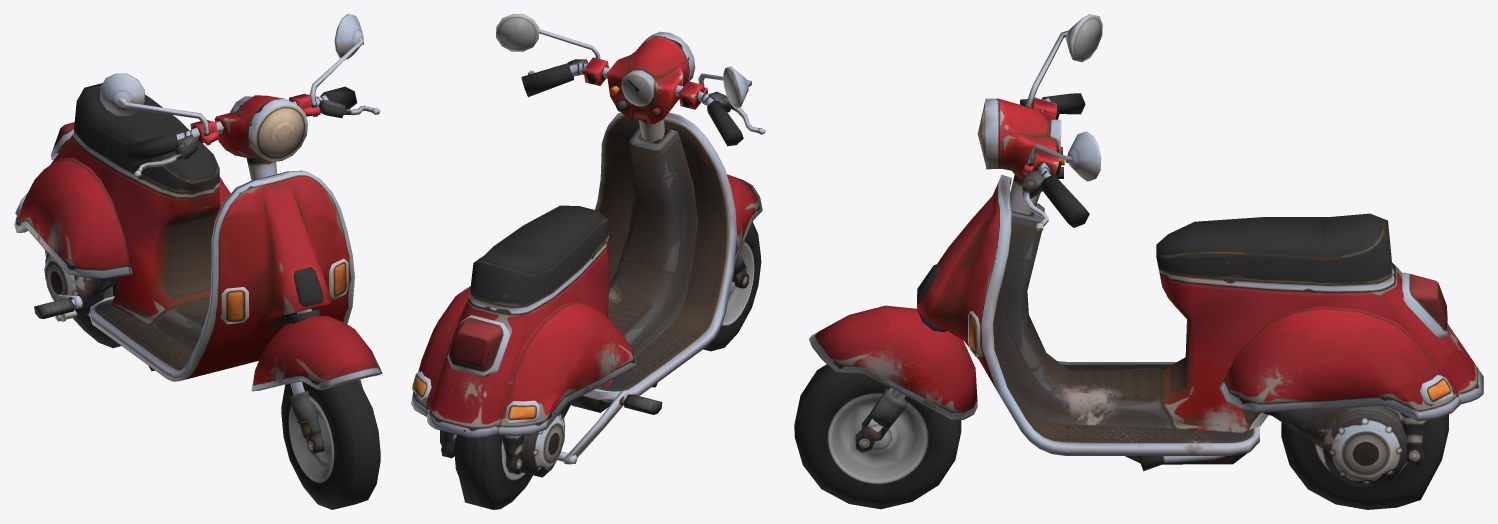
File: Scooty.fbx
The picture shows the model from 3 angles, left to right: view 1: azimuth 30°, elevation 25°; view 2: azimuth 150°, elevation 25°; view 3: azimuth 270°, elevation 25°; orthographic projection. The views are drawn at different scales.
Visible parts, largest first — view 1: Donut_Scooter_Gadget_3_0, TimeframeMainGroup.003, TimeframeMainGroup.008, TimeframeMainGroup.002, TimeframeMainGroup.001, TimeframeMainGroup.005, TimeframeMainGroup.006, TimeframeMainGroup.004, MorphMainGroup; view 2: Donut_Scooter_Gadget_3_0, TimeframeMainGroup.003, MorphMainGroup, TimeframeMainGroup.008, TimeframeMainGroup.001, TimeframeMainGroup.002, TimeframeMainGroup.004, TimeframeMainGroup.006, MorphMainGroup.001, TimeframeMainGroup.005; view 3: Donut_Scooter_Gadget_3_0, TimeframeMainGroup.008, TimeframeMainGroup.002, TimeframeMainGroup.003, TimeframeMainGroup.001, MorphMainGroup, TimeframeMainGroup.005, TimeframeMainGroup.006, MorphMainGroup.001.
Boxes of the visible parts, x1,y1,x2,y2 form: Donut_Scooter_Gadget_3_0: [14, 83, 354, 381]; TimeframeMainGroup.003: [118, 38, 380, 180]; TimeframeMainGroup.008: [281, 380, 380, 509]; TimeframeMainGroup.002: [251, 315, 382, 454]; TimeframeMainGroup.001: [45, 253, 117, 316]; TimeframeMainGroup.005: [100, 73, 144, 115]; TimeframeMainGroup.006: [334, 14, 363, 59]; TimeframeMainGroup.004: [34, 295, 82, 321]; MorphMainGroup: [73, 283, 120, 348]; Donut_Scooter_Gadget_3_0: [411, 112, 736, 437]; TimeframeMainGroup.003: [521, 29, 765, 146]; MorphMainGroup: [453, 435, 532, 509]; TimeframeMainGroup.008: [703, 222, 761, 351]; TimeframeMainGroup.001: [440, 400, 572, 477]; TimeframeMainGroup.002: [727, 174, 762, 288]; TimeframeMainGroup.004: [557, 391, 662, 464]; TimeframeMainGroup.006: [496, 14, 539, 51]; MorphMainGroup.001: [441, 365, 524, 474]; TimeframeMainGroup.005: [723, 66, 748, 108]; Donut_Scooter_Gadget_3_0: [917, 175, 1483, 464]; TimeframeMainGroup.008: [794, 364, 961, 509]; TimeframeMainGroup.002: [809, 305, 977, 452]; TimeframeMainGroup.003: [977, 30, 1089, 230]; TimeframeMainGroup.001: [1263, 405, 1407, 488]; MorphMainGroup: [1281, 406, 1448, 509]; TimeframeMainGroup.005: [1066, 14, 1102, 61]; TimeframeMainGroup.006: [1067, 131, 1101, 181]; MorphMainGroup.001: [1399, 354, 1430, 466].
Size of the model in its own units: 85.28 by 122 by 178.
Materials: 1 (1 with a texture image).
